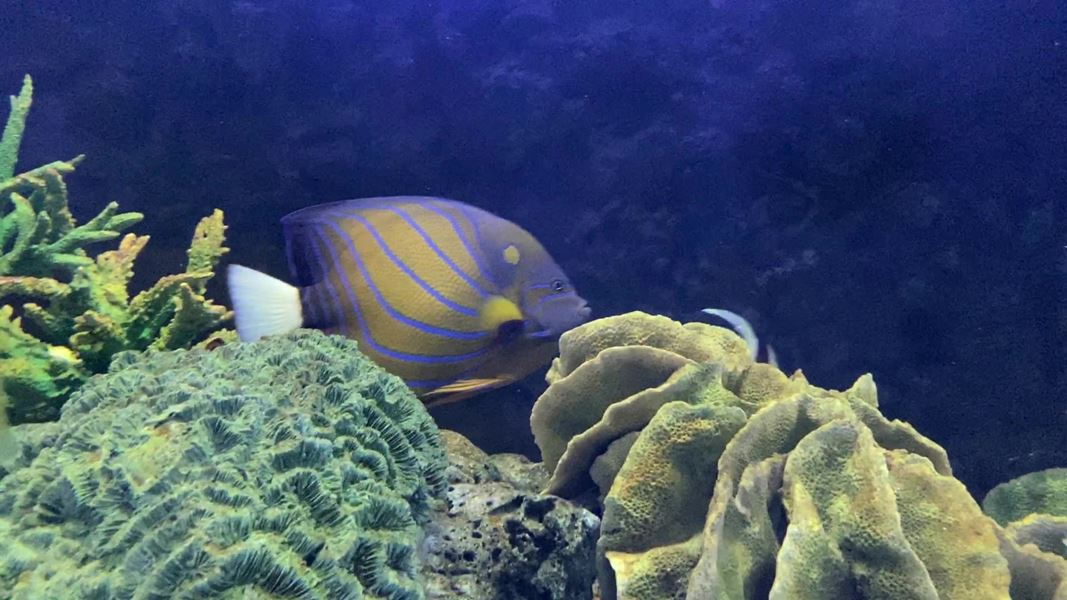Blue ring angelfish: (214, 192, 619, 428)
